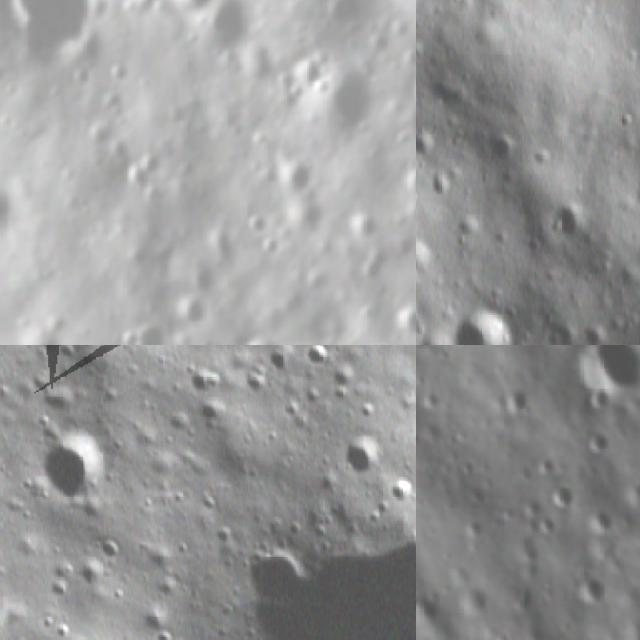crater: (0, 0, 103, 67), (26, 429, 104, 504), (314, 62, 383, 136), (193, 0, 262, 70), (574, 345, 640, 414), (340, 424, 392, 480), (272, 145, 322, 199), (440, 306, 507, 345), (119, 147, 171, 194), (166, 289, 215, 331), (154, 0, 225, 27), (0, 178, 27, 245), (380, 298, 416, 344), (124, 314, 175, 345), (571, 569, 609, 608), (344, 214, 386, 249), (292, 345, 337, 374), (550, 196, 584, 234), (416, 587, 446, 630), (498, 387, 534, 421), (450, 214, 492, 243), (381, 473, 416, 504), (553, 476, 579, 512), (233, 330, 293, 345), (243, 208, 272, 238), (499, 298, 523, 328), (398, 163, 416, 202), (261, 230, 282, 258), (416, 239, 432, 274), (580, 324, 606, 345), (541, 326, 562, 345), (514, 329, 535, 345)
